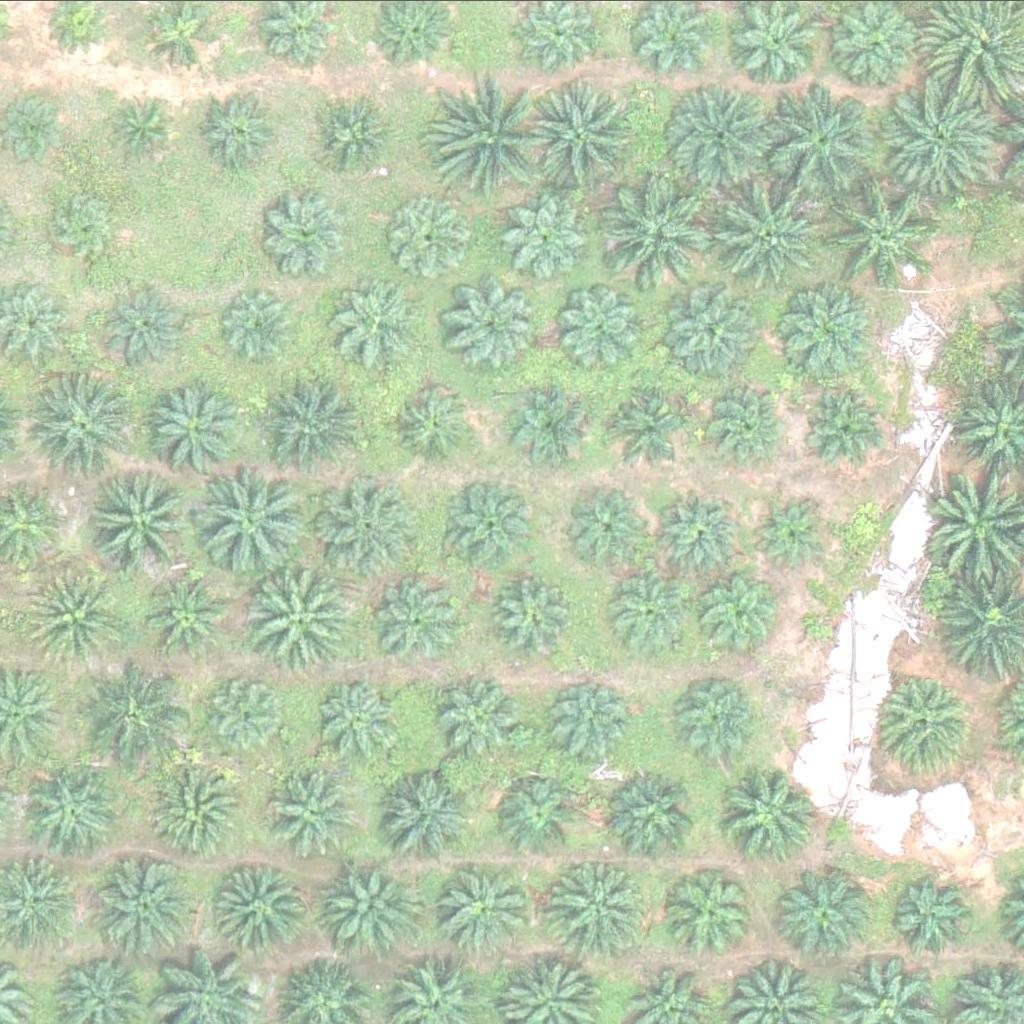Kelapa_Sawit: (661, 85, 775, 198), (438, 78, 551, 191), (759, 81, 872, 194), (263, 373, 376, 486), (200, 464, 313, 577), (72, 653, 185, 766), (886, 75, 1000, 187), (85, 459, 199, 571), (531, 81, 644, 193), (825, 174, 938, 286), (716, 174, 829, 286), (604, 178, 717, 290), (244, 565, 357, 677), (28, 372, 141, 484), (671, 281, 772, 381), (150, 377, 251, 477), (317, 480, 418, 580), (146, 763, 247, 863), (375, 761, 476, 861), (607, 765, 708, 865), (723, 764, 824, 864), (551, 855, 652, 955), (94, 853, 195, 953), (26, 758, 127, 858), (25, 568, 126, 668), (777, 282, 877, 382), (879, 670, 979, 770), (213, 856, 313, 956), (318, 855, 418, 955), (779, 862, 879, 962), (198, 85, 286, 173), (314, 97, 402, 185), (457, 281, 545, 369), (558, 281, 646, 369), (203, 667, 291, 755), (310, 678, 398, 766), (438, 674, 526, 762), (540, 681, 628, 769), (488, 579, 576, 667), (443, 481, 531, 569), (806, 382, 894, 470), (389, 380, 477, 468), (390, 191, 478, 279), (271, 765, 359, 853), (673, 865, 761, 953), (886, 873, 974, 961), (146, 573, 234, 661), (103, 282, 191, 370), (675, 675, 763, 762), (692, 565, 780, 652), (607, 569, 695, 656), (371, 578, 459, 665), (568, 484, 656, 571), (652, 483, 740, 570), (696, 385, 784, 472), (599, 377, 687, 464), (502, 385, 590, 472), (261, 190, 349, 277), (503, 193, 591, 280), (334, 279, 422, 366), (493, 770, 581, 857), (437, 861, 525, 948), (224, 287, 300, 362), (749, 494, 825, 569), (107, 91, 183, 166), (50, 185, 125, 260)
